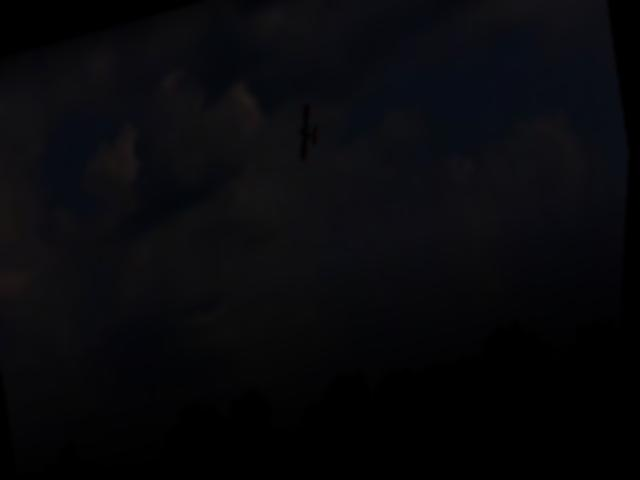uav: (285, 100, 333, 174)
